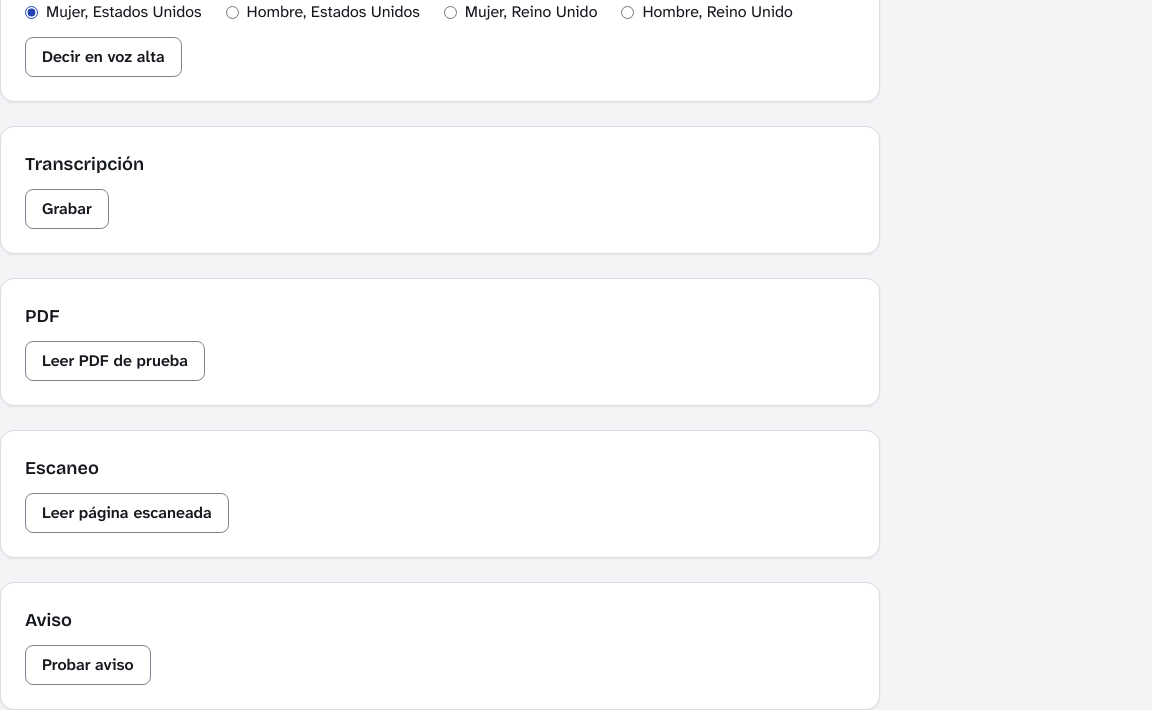
Test: Laboratorio › [CA-030] «Probar aviso» dice que el aviso salió y cuánto tardó (simulado)
The width and height of the screenshot is (1152, 710).
(page scrolled)
Click the button "Probar aviso". click: [88, 665]
box: [25,645,151,685]
(page scrolled)
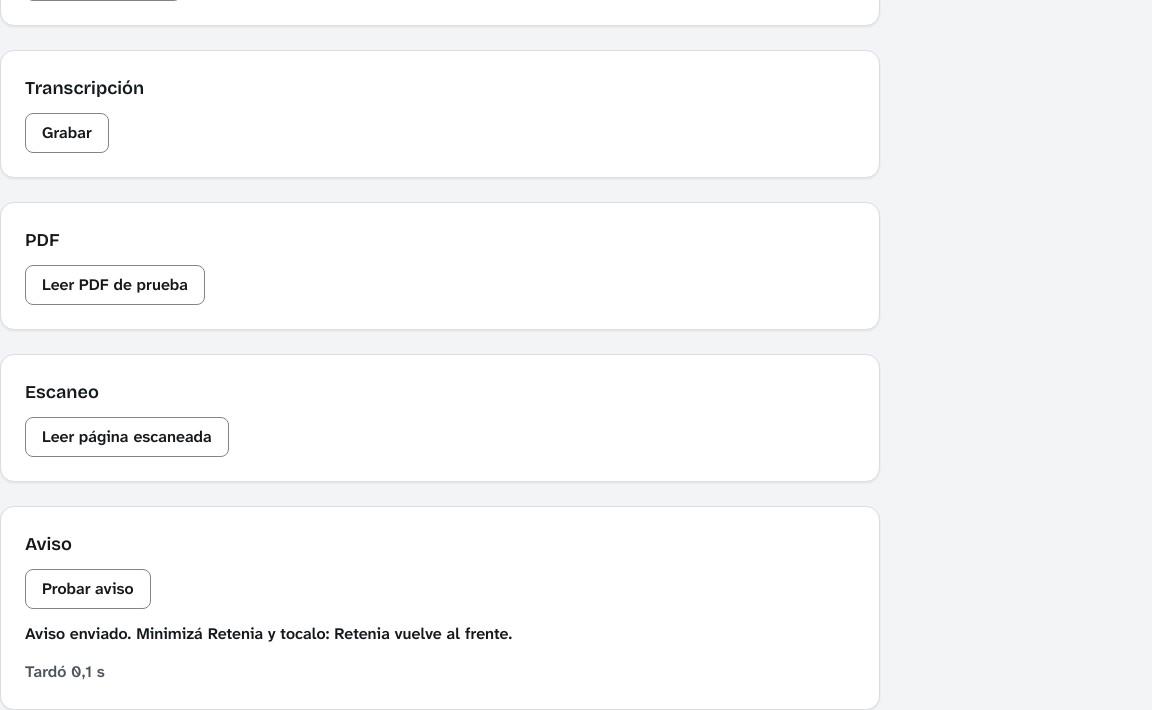
Result: the text "Aviso enviado. Minimizá Retenia y tocalo: Retenia vuelve al frente." is shown at [25,623,512,644]
Result: the text "Tardó 0,1 s" is shown at [25,661,105,682]
